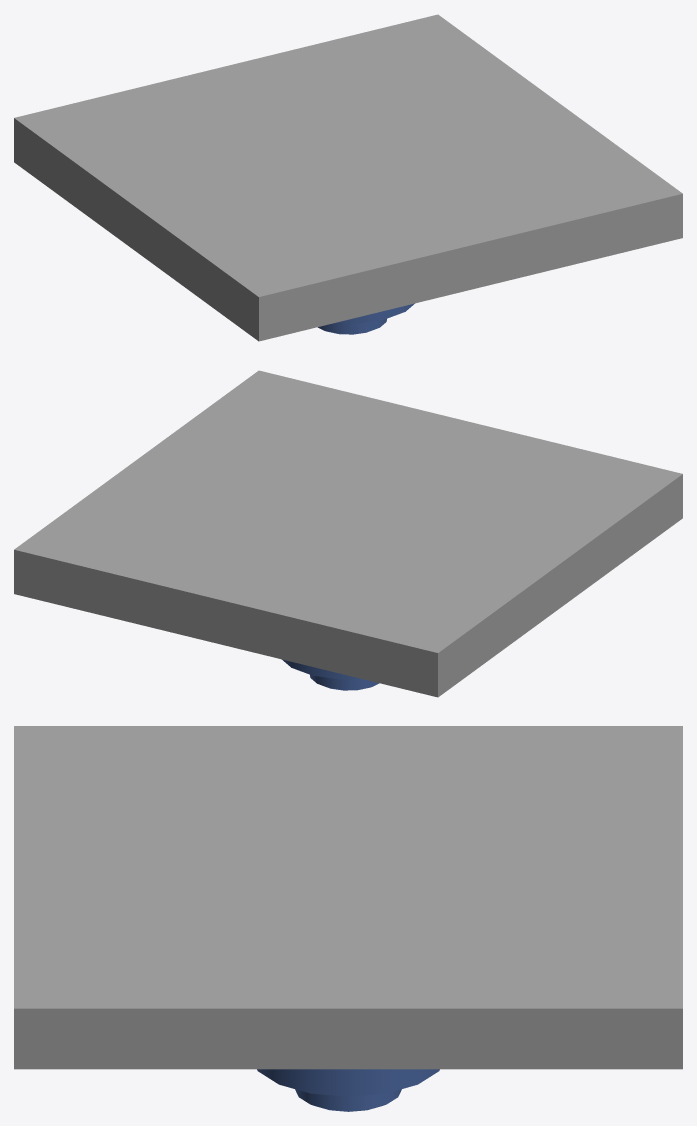
Rendered from platform_low.fbx.
3 views of the same model, one above another, from view 1: azimuth 30°, elevation 25°; view 2: azimuth 150°, elevation 25°; view 3: azimuth 270°, elevation 25° (orthographic). The views are drawn at different scales.
Parts seen in each view (by area): view 1: platform_low, jet_low; view 2: platform_low, jet_low; view 3: platform_low, jet_low.
Part boxes in pixels (x1,y1,x2,y2): platform_low: [14, 14, 682, 341]; jet_low: [318, 303, 414, 334]; platform_low: [14, 370, 682, 697]; jet_low: [282, 659, 378, 690]; platform_low: [14, 726, 682, 1069]; jet_low: [257, 1069, 439, 1111].
Bounding box in the file's own units: 1000 × 369 × 1000.
